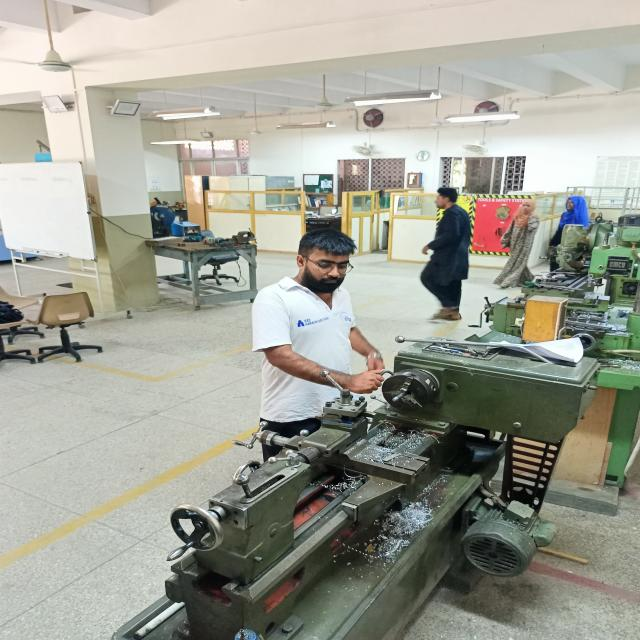dress: (248, 274, 359, 464), (421, 207, 475, 317), (498, 198, 542, 291), (554, 193, 594, 252)
glasses: (314, 260, 356, 278)
